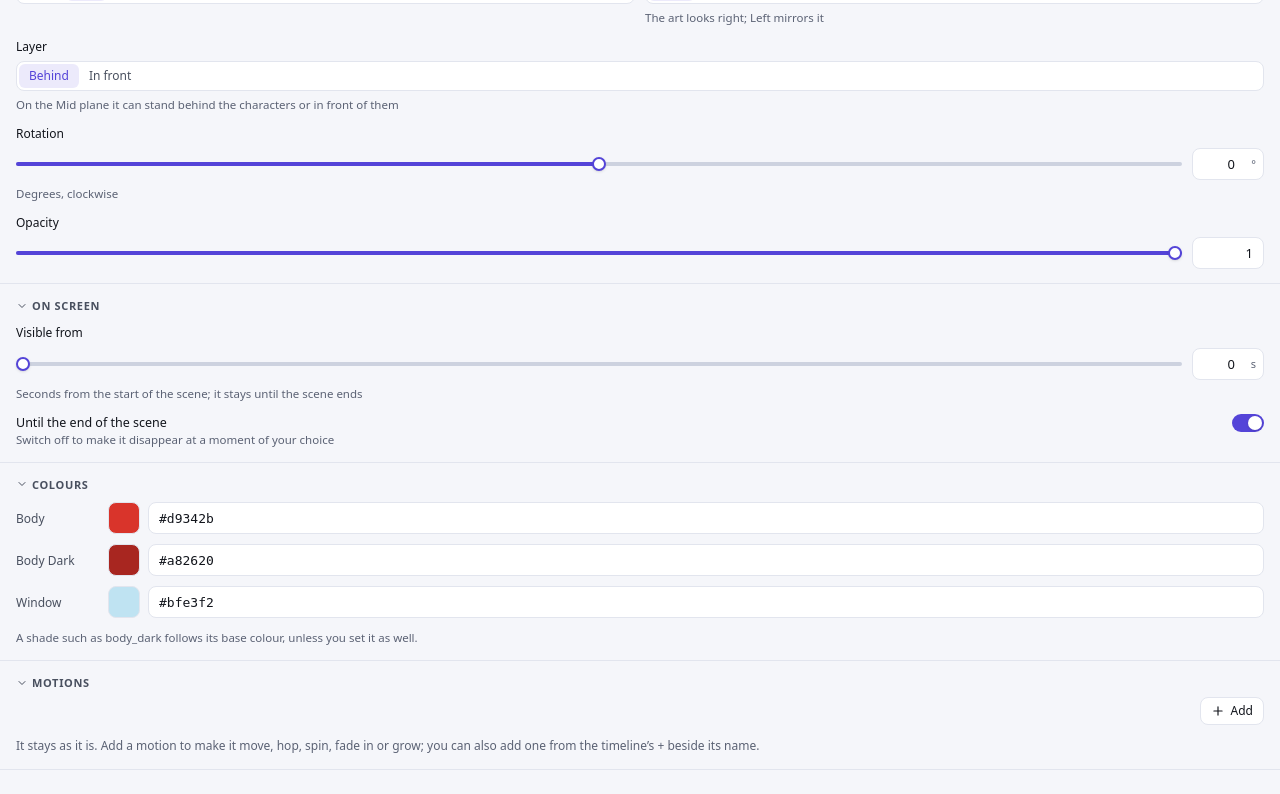
the colours of an object › recolours a part, shows the shade that follows it, and resets
This screenshot has width=1280, height=794.
(page scrolled)
Replace the text in the field named "Body hex" with "#2A6FDB": point(706, 518) [148, 502, 1264, 534]
Then press Enter
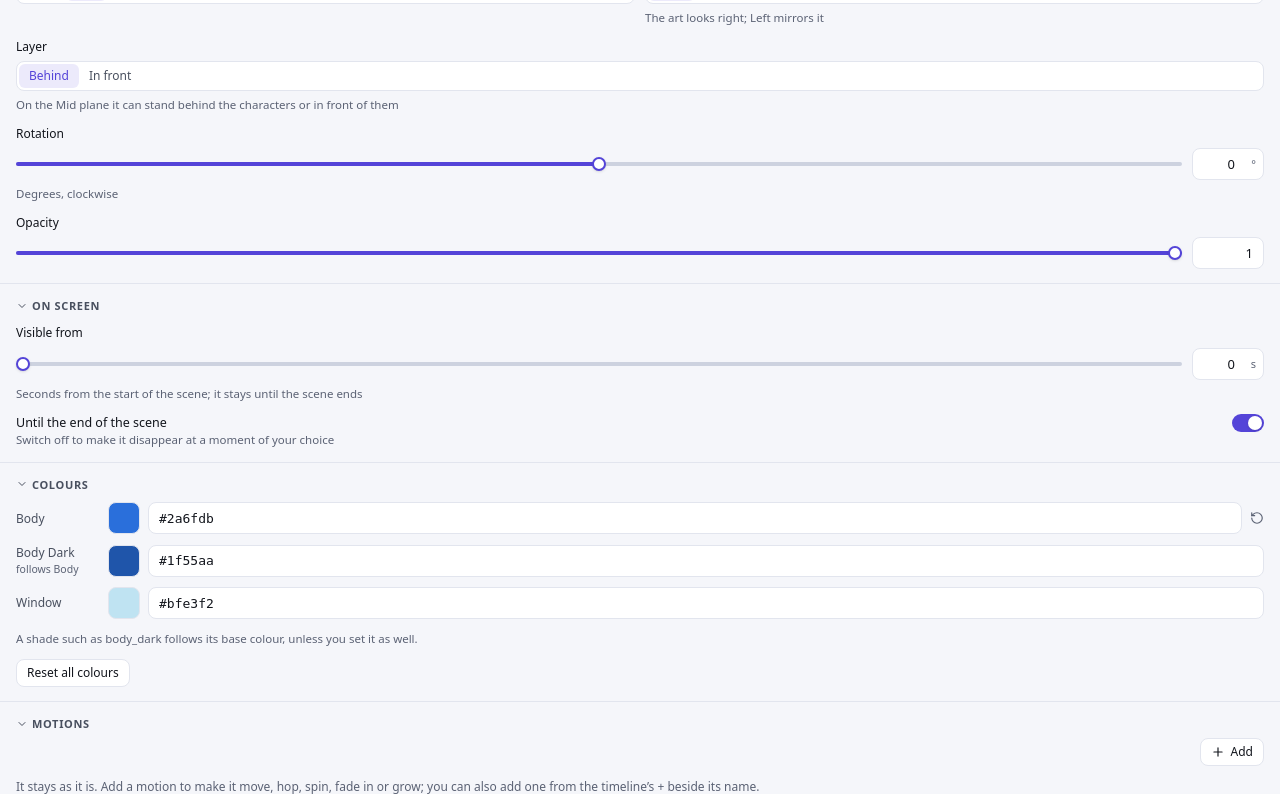
Check: the text "follows Body" is shown, box [16, 562, 78, 576]
Check: the field named "Body Dark hex" does not hold "#a82620", box [148, 545, 1264, 577]
Click the button named "reset body to the drawing’s own colour": point(1257, 518) [1250, 511, 1264, 525]
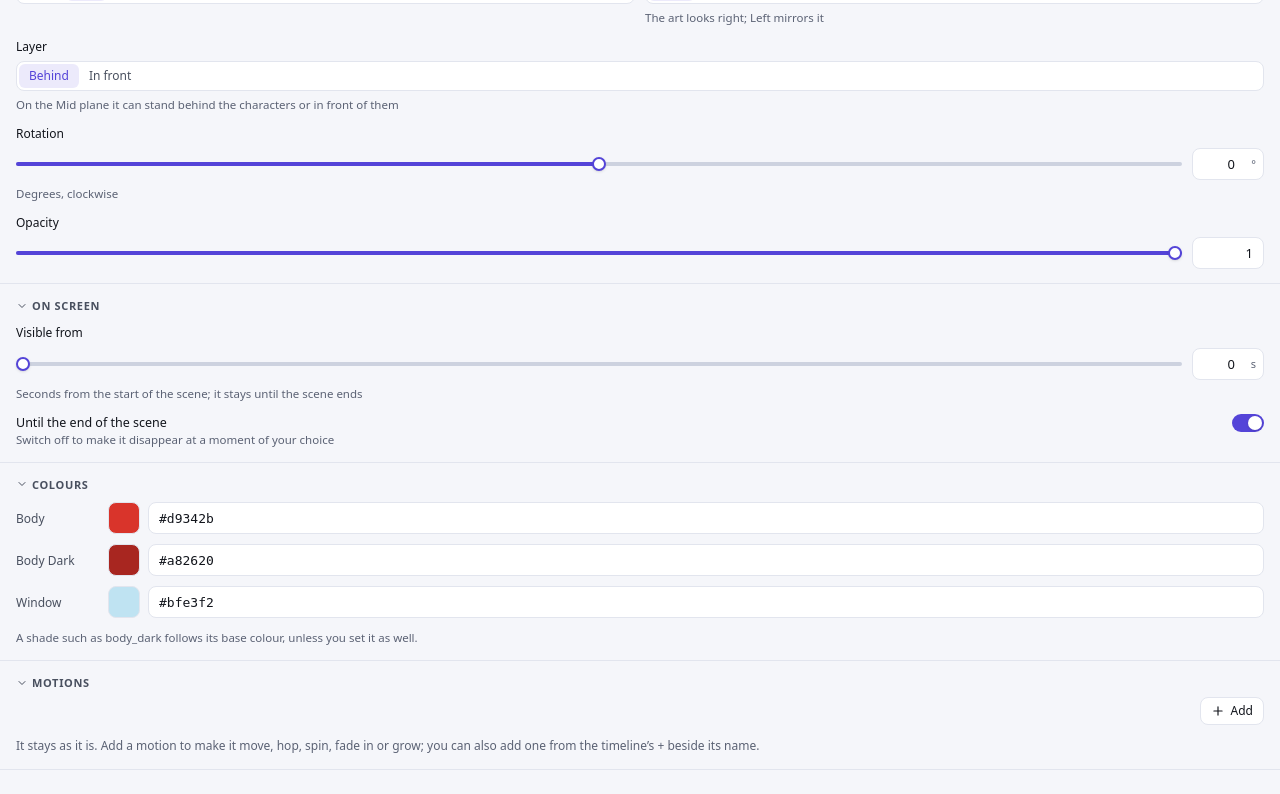
Check: the text "follows Body" is gone
